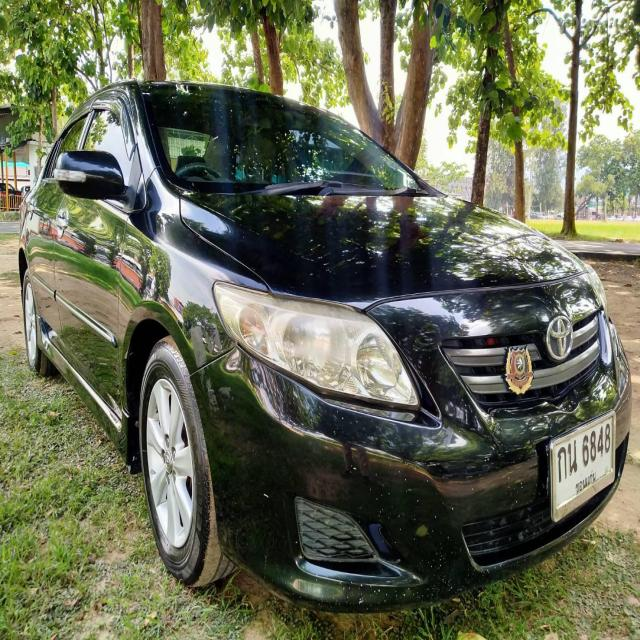license_plate: (547, 408, 619, 525)
